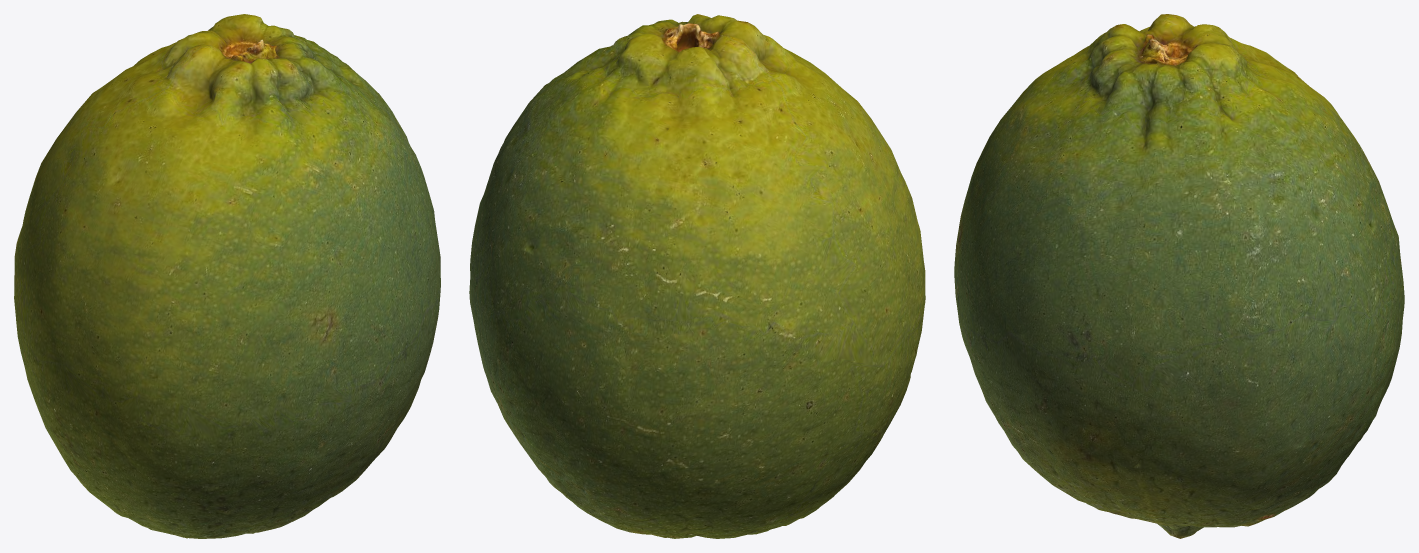
The model's file is lime.glb.
3 renders of one model, left to right at view 1: azimuth 30°, elevation 25°; view 2: azimuth 150°, elevation 25°; view 3: azimuth 270°, elevation 25°, orthographic.
Parts seen in each view (by area): view 1: food_lime_01; view 2: food_lime_01; view 3: food_lime_01.
Boxes of the visible parts, <box> form: food_lime_01: <box>14,14,440,538</box>; food_lime_01: <box>469,14,925,538</box>; food_lime_01: <box>954,14,1404,538</box>.
Size of the model in its own units: 0.0601 by 0.0754 by 0.0613.
1 material, 1 textured.
